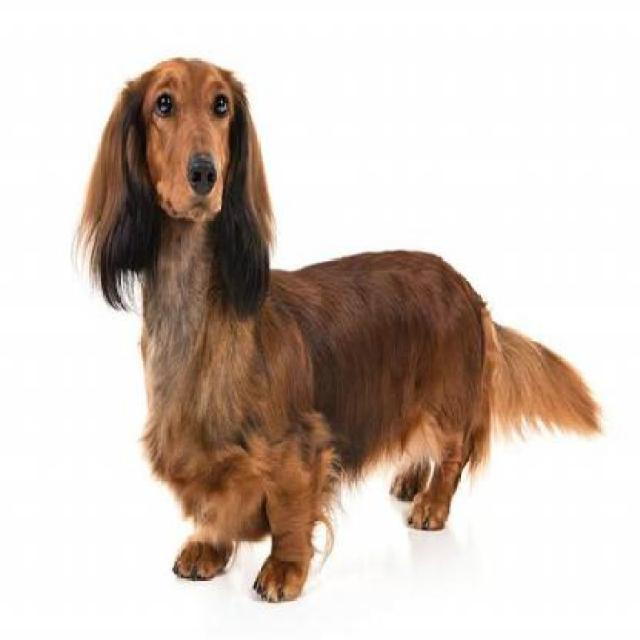Dog: (66, 52, 606, 605)
